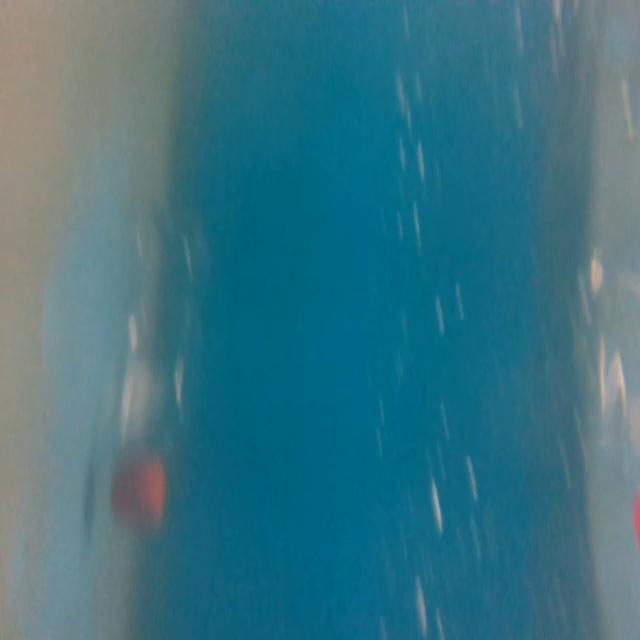plastic bottle: (106, 205, 213, 535)
